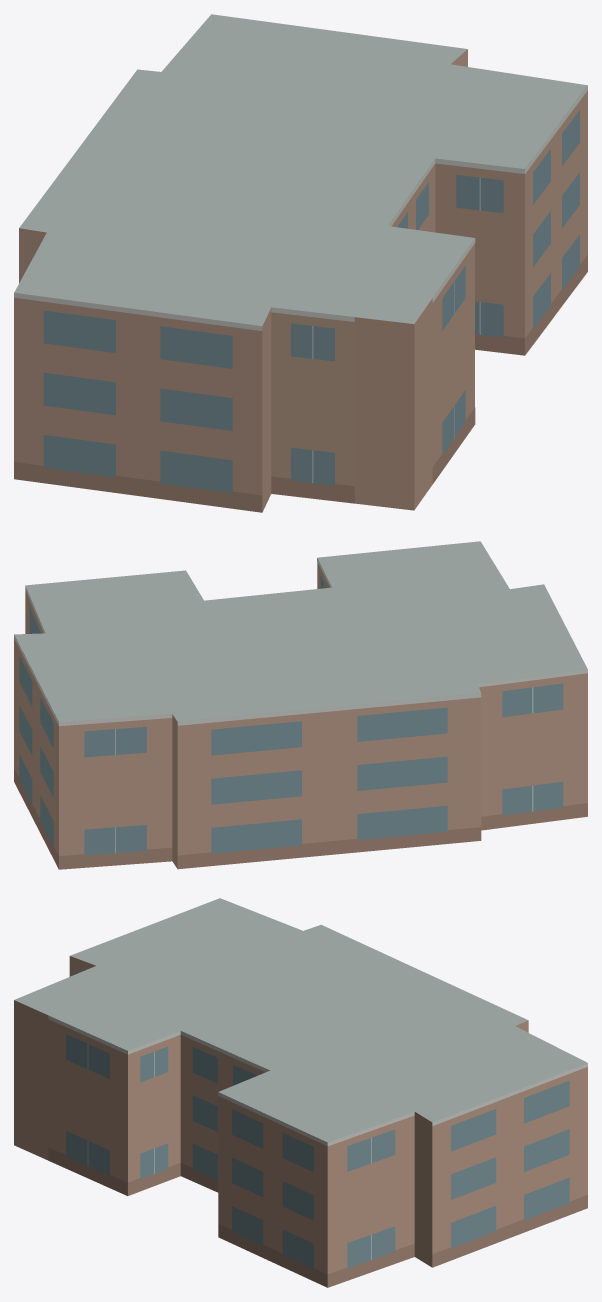
The model's file is survey-upis-32833065.glb.
3 renders of one model, top to bottom at view 1: azimuth 30°, elevation 25°; view 2: azimuth 150°, elevation 25°; view 3: azimuth 270°, elevation 25°, orthographic. The views are drawn at different scales.
Parts seen in each view (by area): view 1: survey-upis-32833065.tmp; view 2: survey-upis-32833065.tmp; view 3: survey-upis-32833065.tmp.
Part boxes in pixels (x1,y1,x2,y2): survey-upis-32833065.tmp: [14, 14, 587, 512]; survey-upis-32833065.tmp: [14, 541, 587, 869]; survey-upis-32833065.tmp: [14, 898, 587, 1287].
Size of the model in its own units: 33.02 by 9.15 by 32.76.
